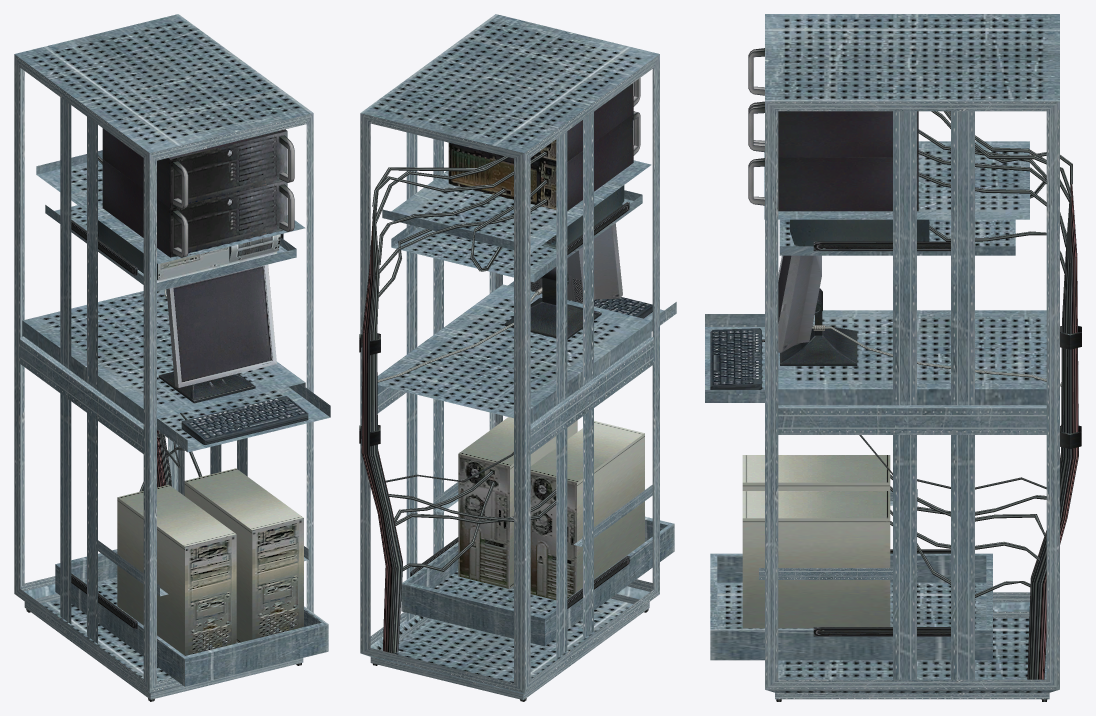
The model's file is hacker_room_rack_2.fbx.
3 views of the same model, side by side, from view 1: azimuth 30°, elevation 25°; view 2: azimuth 150°, elevation 25°; view 3: azimuth 270°, elevation 25° (orthographic). The views are drawn at different scales.
Parts seen in each view (by area): view 1: mesh_0, mesh_1, mesh_3, mesh_2; view 2: mesh_0, mesh_1, mesh_3, mesh_2; view 3: mesh_0, mesh_1, mesh_3, mesh_2.
Part boxes in pixels (x1,y1,x2,y2): mesh_0: (14,14,330,701); mesh_1: (117,396,308,655); mesh_3: (102,128,294,257); mesh_2: (98,220,280,282); mesh_0: (359,14,676,701); mesh_1: (458,291,652,600); mesh_3: (448,78,640,210); mesh_2: (542,185,624,248); mesh_0: (705,14,1081,701); mesh_1: (710,328,890,628); mesh_3: (748,48,918,211); mesh_2: (790,219,929,246).
Bounding box in the file's own units: 70 × 226 × 128.
Materials: 4 (4 with a texture image).
